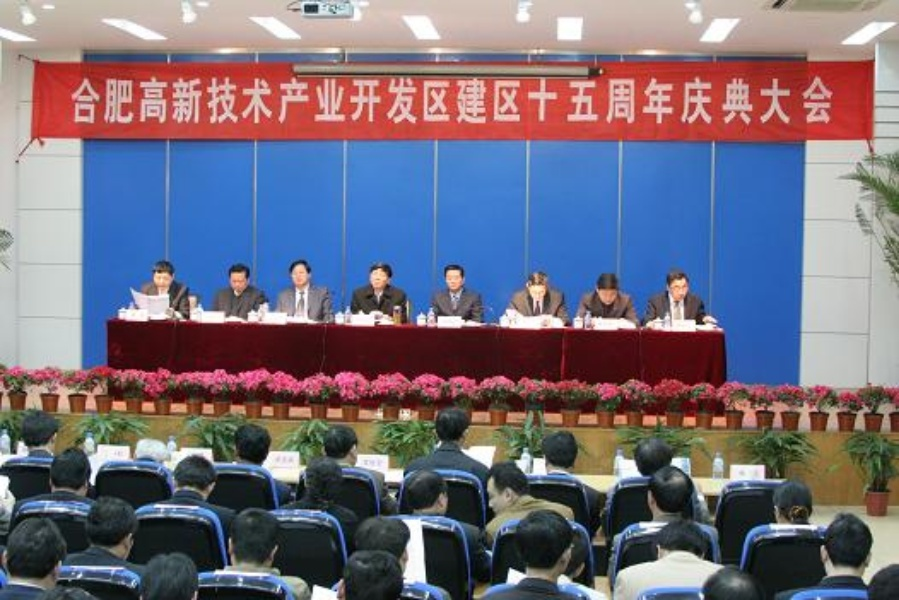text: (817, 77, 833, 125), (81, 77, 96, 125), (97, 77, 112, 125), (113, 77, 128, 125), (129, 77, 144, 125), (145, 77, 160, 125), (161, 77, 176, 125), (177, 77, 192, 125), (193, 77, 208, 125), (209, 77, 224, 125), (225, 77, 240, 125), (241, 77, 256, 125), (257, 77, 272, 125), (273, 77, 288, 125), (289, 77, 304, 125), (305, 77, 320, 125), (321, 77, 336, 125), (337, 77, 352, 125), (353, 77, 368, 125), (369, 77, 384, 125), (385, 77, 400, 125), (401, 77, 416, 125), (417, 77, 432, 125), (433, 77, 448, 125), (449, 77, 464, 125), (465, 77, 480, 125), (481, 77, 496, 125), (497, 77, 512, 125), (513, 77, 528, 125), (529, 77, 544, 125), (545, 77, 560, 125), (561, 77, 576, 125), (577, 77, 592, 125), (593, 77, 608, 125), (609, 77, 624, 125), (625, 77, 640, 125), (641, 77, 656, 125), (657, 77, 672, 125), (673, 77, 688, 125), (689, 77, 704, 125), (705, 77, 720, 125), (721, 77, 736, 125), (737, 77, 752, 125), (753, 77, 768, 125), (769, 77, 784, 125), (785, 77, 800, 125), (801, 77, 816, 125), (67, 77, 80, 125), (369, 459, 385, 467), (276, 455, 288, 464), (739, 469, 752, 477), (113, 450, 127, 457), (289, 455, 296, 464), (753, 469, 759, 477), (363, 459, 368, 467), (110, 450, 112, 457)
